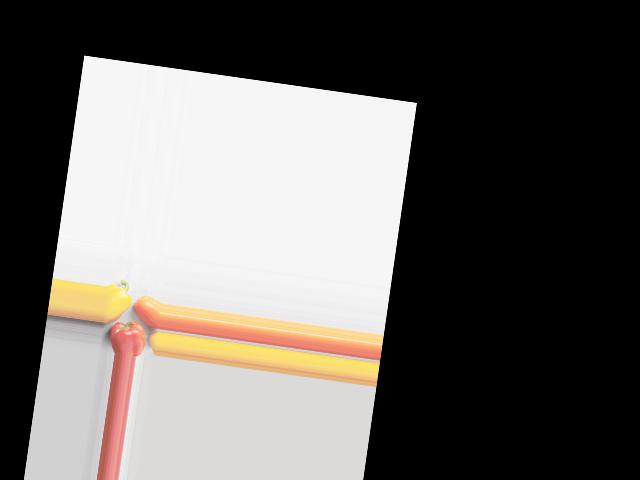bell_pepper: (105, 317, 148, 357)
